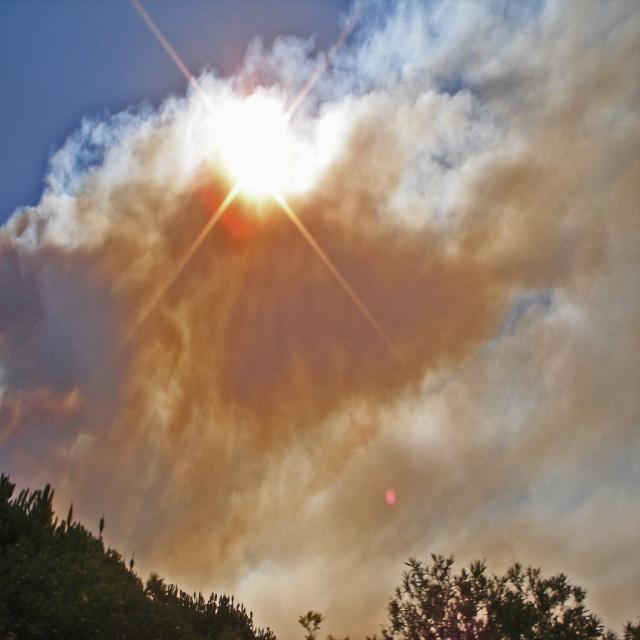no_fire: (108, 46, 512, 497)
